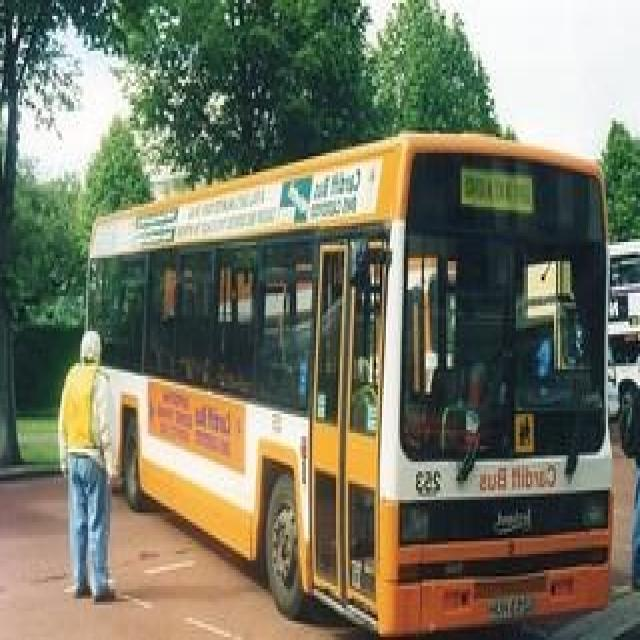Bus: (59, 94, 614, 640)
